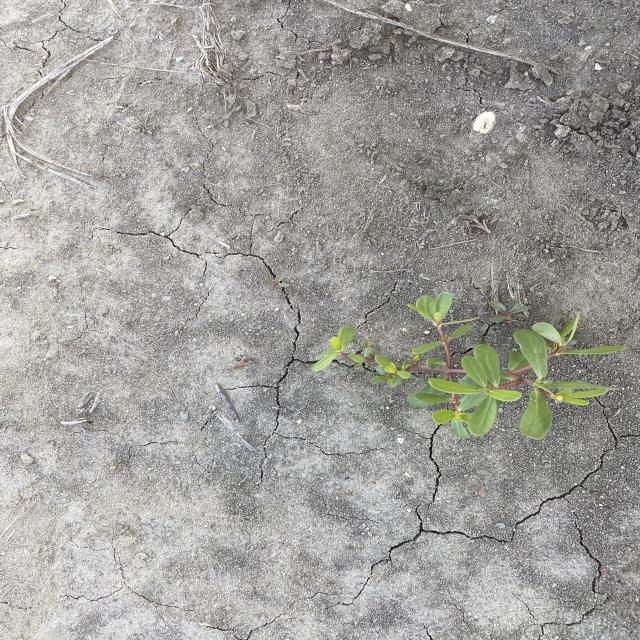Purslane: (311, 290, 629, 442)
